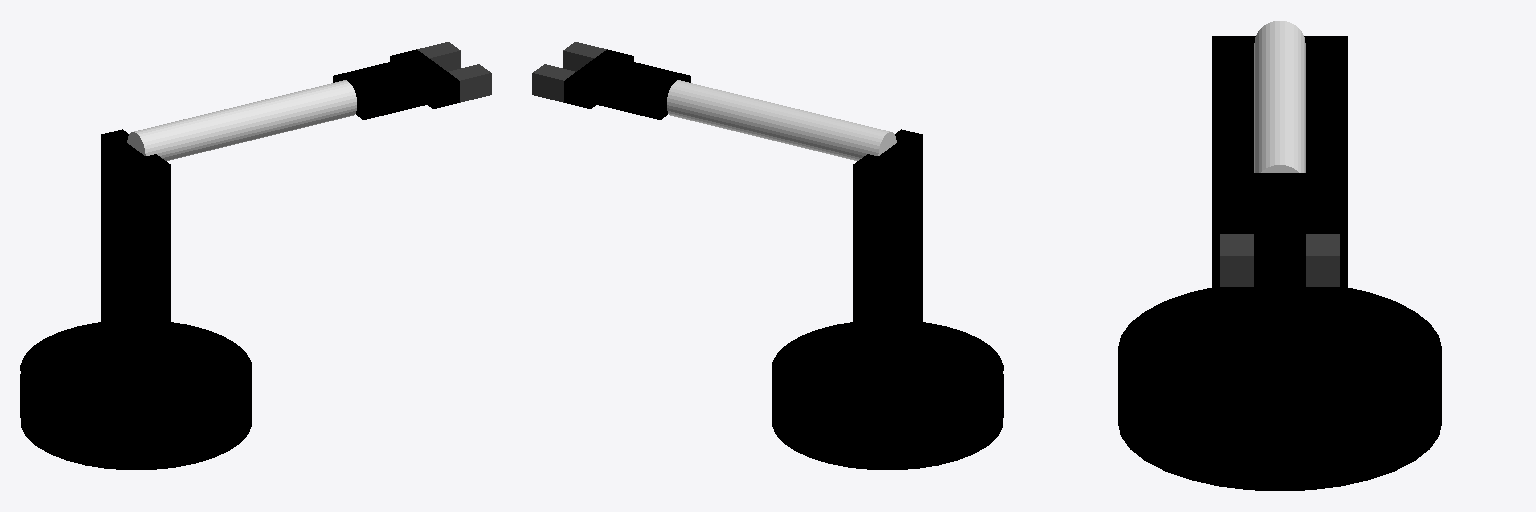
robot.urdf — lynxmotion_arm:
<robot name="lynxmotion_arm">
	<link name="base_link">
		<visual>
			<geometry>
				<cylinder length="0.04" radius="0.095" />
			</geometry>
			<material name="black">
				<color rgba="0 0 0 1" />
			</material>
			<origin xyz="0 0 0.02" rpy="0 0 0" />
		</visual>
	</link>
	<link name="turret">
		<visual>
			<geometry>
				<cylinder length="0.005" radius="0.095" />
			</geometry>
			<material name="black" />
		</visual>
	</link>
	<link name="upperarm">
		<visual>
			<geometry>			
				<box size="0.02 0.08 0.18" />
			</geometry>
			<material name="black" />
			<origin xyz="0 0 0.09" rpy="0 0 0" />
		</visual>	
	</link>
	<link name="forearm" >
		<visual>
			<geometry>
				<cylinder length="0.20" radius="0.015" />
			</geometry>
			<material name="silver" >
				<color rgba="0.9 0.9 0.9 1" />
			</material>
			<origin xyz="0 0 0.10" rpy="0 0 0" />
		</visual>
	</link>
	<link name="wrist">
		<visual>
			<geometry>			
				<box size="0.02 0.05 0.06" />
			</geometry>
			<material name="black" />
			<origin xyz="0 0 0.03" rpy="0 0 0" />
		</visual>
	</link>
	<link name="hand">
		<visual>
			<geometry>
				<box size="0.02 0.07 0.025" />
			</geometry>
			<material name="black" />
			<origin xyz="0 0 0.0125" rpy="0 0 0" />
		</visual>
	</link>
	<link name="gripper_left">
		<visual>
			<geometry>
				<box size="0.02 0.02 0.03" />
			</geometry>
			<origin xyz="0 0 0.015" rpy="0 0 0" />
			<material name="gray" >
				<color rgba="0.3 0.3 0.3 1" />
			</material>
		</visual>
	</link>
	<link name="gripper_right">
		<visual>
			<geometry>
				<box size="0.02 0.02 0.03" />
			</geometry>
			<origin xyz="0 0 0.015" rpy="0 0 0" />
			<material name="gray" />
		</visual>
	</link>
	<joint name="base_link2turret" type="continuous">
		<parent link="base_link" />
		<child link="turret" />
		<origin xyz="0 0 0.045" rpy="0 0 0" />
		<axis xyz="0 0 -1" />
	</joint>
	<joint name="turret2upperarm" type="continuous">
		<parent link="turret" />
		<child link="upperarm" />
		<origin xyz="0 0 0.02" rpy="0 0 0" />
		<axis xyz="0 -1 0" />
	</joint>
	<joint name="upperarm2forearm" type="continuous">
		<parent link="upperarm" />
		<child link="forearm" />
		<origin xyz="0 0 0.18" rpy="0 1.5708 0" />
		<axis xyz="0 1 0" />
	</joint>
	<joint name="forearm2wrist" type="continuous">
		<parent link="forearm" />
		<child link="wrist" />
		<origin xyz="0 0 0.20" rpy="0 0 0" />
		<axis xyz="0 -1 0" />
	</joint>
	<joint name="wrist2hand" type="continuous">
		<parent link="wrist" />
		<child link="hand" />
		<origin xyz="0 0 0.06" rpy="0 0 0" />
		<axis xyz="0 0 1" />
	</joint>
	<joint name="gripper_left2hand" type="prismatic">
		<parent link="hand" />
		<child link="gripper_left" />
		<origin xyz="0 0.025 0.025" rpy="0 0 0" />
		<limit effort="1000.0" lower="-0.02" upper="0.02" velocity="0.5" />
		<axis xyz="0 -1 0" />
	</joint>
	<joint name="gripper_right2hand" type="prismatic">
		<parent link="hand" />
		<child link="gripper_right" />
		<origin xyz="0 -0.025 0.025" rpy="0 0 0" />
		<limit effort="1000.0" lower="0.02" upper="-0.02" velocity="0.5" />
		<axis xyz="0 1 0" />
                <mimic joint="gripper_left2hand" multiplier="1" offset="0"/>
	</joint>
</robot>

--- Render facts (derived) ---
Views: 3 orthographic renders of the robot side by side, from view 1: azimuth 30°, elevation 25°; view 2: azimuth 150°, elevation 25°; view 3: azimuth 270°, elevation 25°.
Robot: lynxmotion_arm — 8 links, 7 joints (5 continuous, 2 prismatic); root link base_link; default pose: every joint at zero.
Visible links, largest first — view 1: turret, upperarm, base_link, forearm, wrist, hand, gripper_right, gripper_left; view 2: turret, upperarm, base_link, forearm, wrist, hand, gripper_left, gripper_right; view 3: turret, upperarm, base_link, forearm, hand, wrist, gripper_left, gripper_right.
Link boxes in pixels (x1,y1,x2,y2): turret: (20,322,251,422); upperarm: (101,129,170,369); base_link: (20,374,251,469); forearm: (127,80,356,160); wrist: (333,60,426,119); hand: (390,49,459,108); gripper_right: (449,64,491,102); gripper_left: (417,42,460,71); turret: (772,322,1003,422); upperarm: (853,129,922,369); base_link: (772,374,1003,469); forearm: (667,80,896,160); wrist: (597,60,690,119); hand: (564,49,633,108); gripper_left: (532,64,574,102); gripper_right: (563,42,606,71); turret: (1118,288,1441,425); upperarm: (1212,36,1347,329); base_link: (1118,360,1441,490); forearm: (1254,21,1305,172); hand: (1220,216,1339,264); wrist: (1237,173,1322,215); gripper_left: (1306,234,1339,286); gripper_right: (1220,234,1253,286).
Bounding box of the posed robot: 0.41 × 0.19 × 0.26 m (x, y, z).
Geometry: primitives only (box / cylinder / sphere), no mesh files.